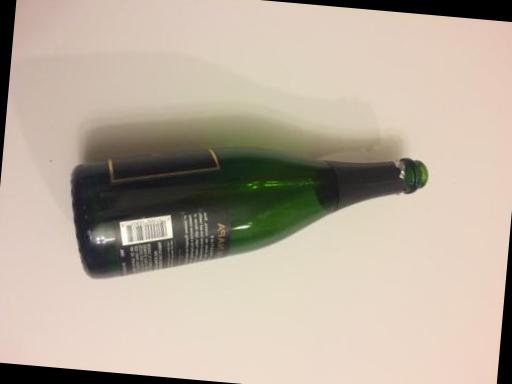glass: (46, 103, 442, 342)
